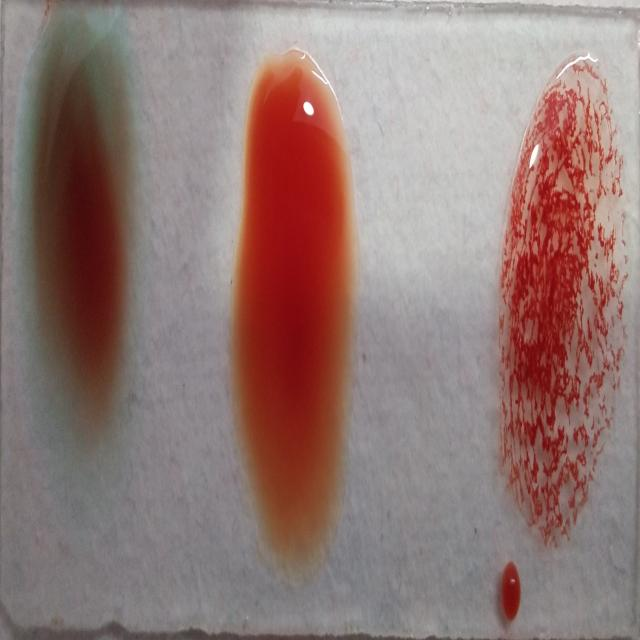D: (499, 46, 619, 540)
